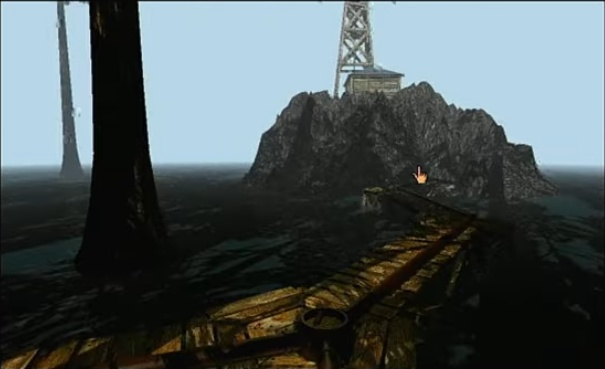Pointer: (410, 163, 431, 186)
